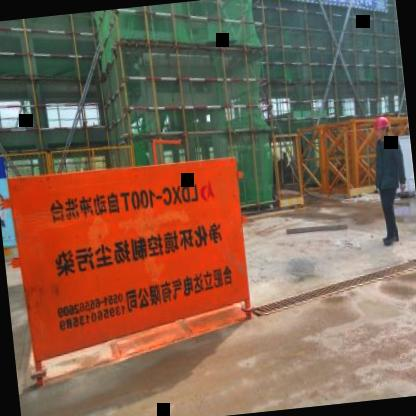helmet: (371, 110, 394, 146)
